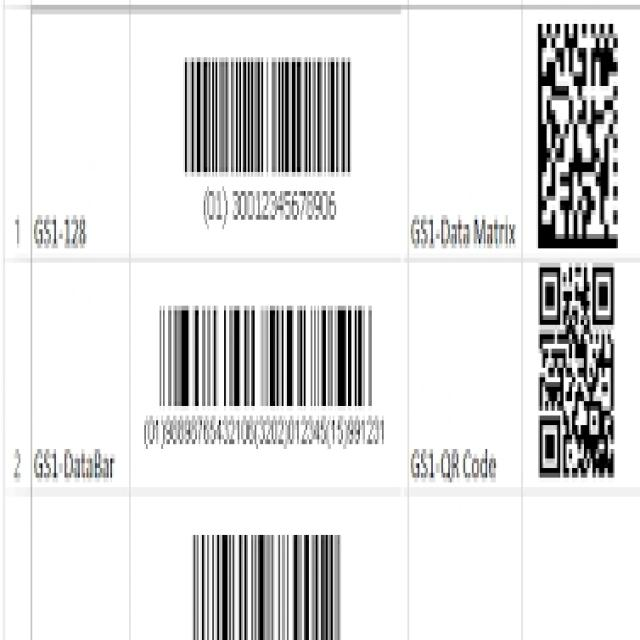datamatrix: (533, 9, 625, 268)
